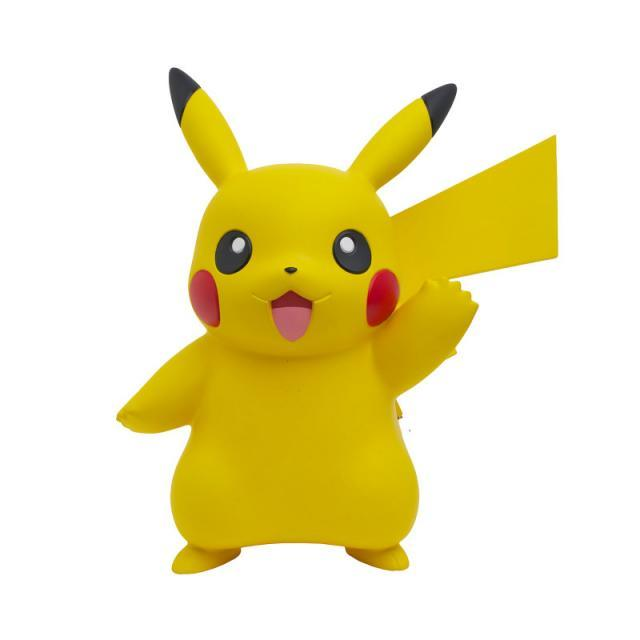Pikachu: (78, 44, 582, 596)
